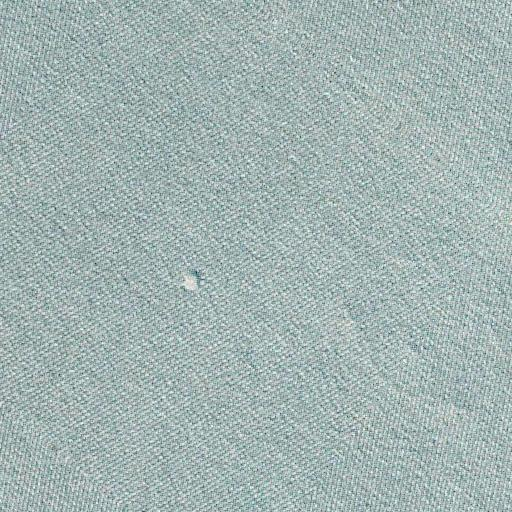knot: (170, 260, 223, 307)
